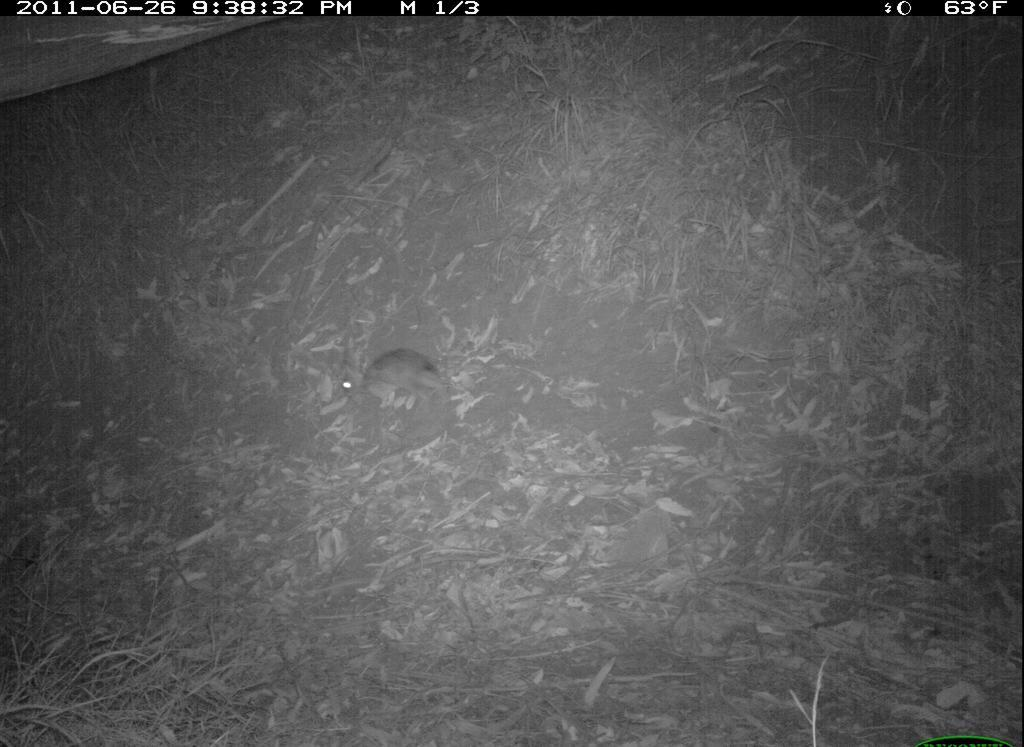rabbit: (335, 337, 450, 418)
